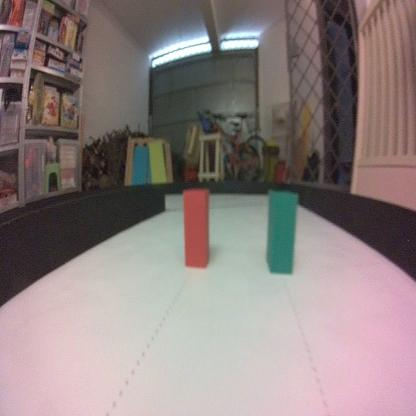green: (264, 188, 297, 278)
red: (183, 189, 210, 270)
